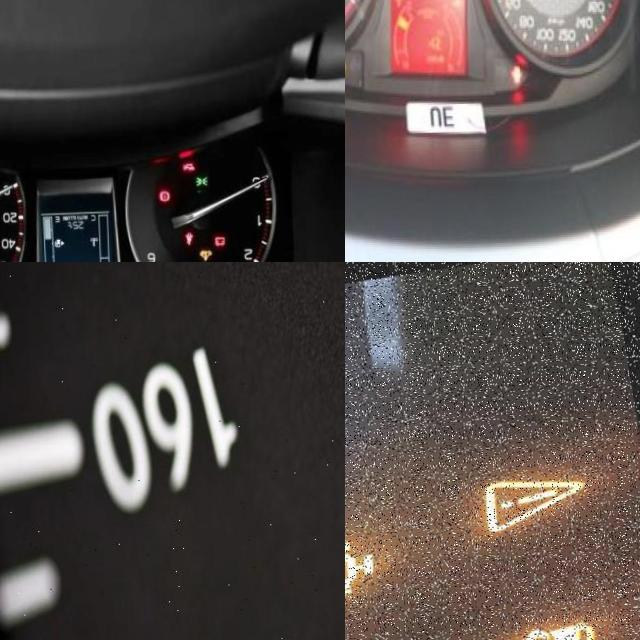Seat Belt: (507, 67, 520, 87), (183, 235, 191, 249)
